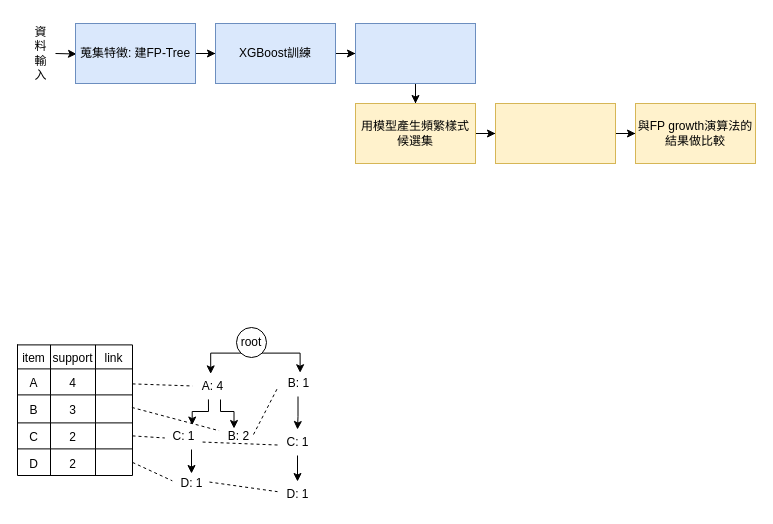
The diagram is 773 pixels wide and 524 high, and some of its shapes have lost their labels. The box of each missing label's shape, as (x1, y1, x2, y2) in pixels:
儲存模型 評估模型正確率: (354, 22, 476, 84)
驗證通過最小支持度的樣式: (494, 102, 616, 164)
